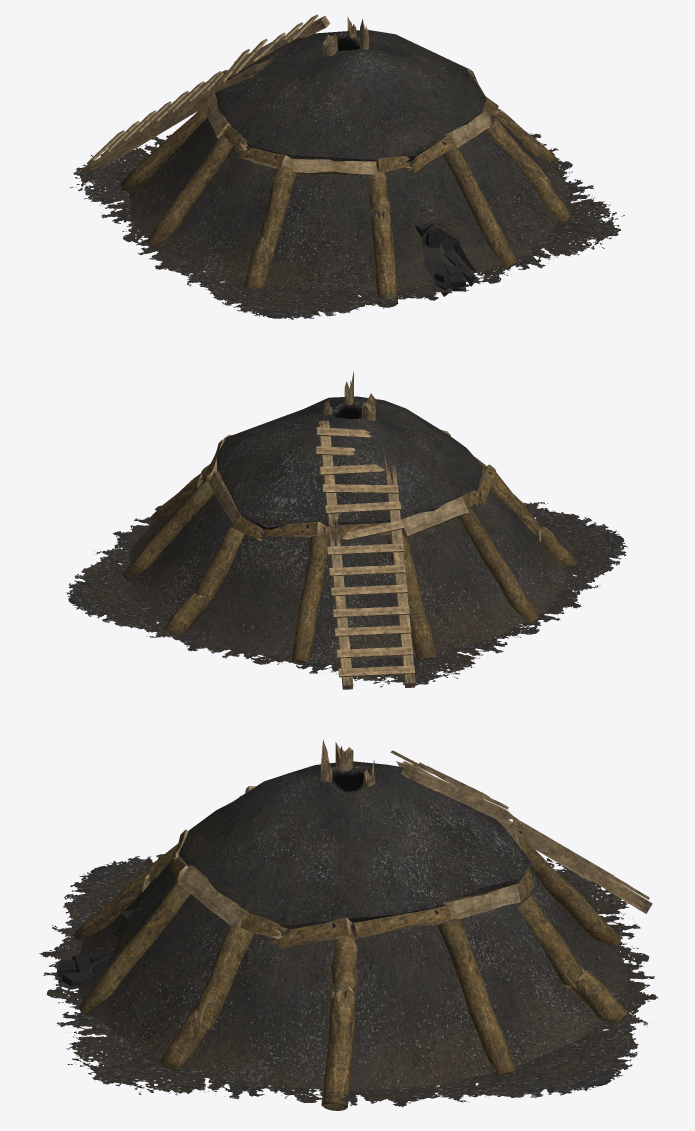
Rendered from CoalerPile_Destroyed_Stage1.fbx.
The picture shows the model from 3 angles, top to bottom: view 1: azimuth 30°, elevation 25°; view 2: azimuth 150°, elevation 25°; view 3: azimuth 270°, elevation 25°; orthographic projection. The views are drawn at different scales.
Parts seen in each view (by area): view 1: CoalerPile_Destroyed_Stage1; view 2: CoalerPile_Destroyed_Stage1; view 3: CoalerPile_Destroyed_Stage1.
Part boxes in pixels (x1=…): CoalerPile_Destroyed_Stage1: x1=70, y1=14, x2=624, y2=319; CoalerPile_Destroyed_Stage1: x1=66, y1=371, x2=627, y2=689; CoalerPile_Destroyed_Stage1: x1=39, y1=739, x2=658, y2=1110.
Bounding box in the file's own units: 708 × 301 × 708.
